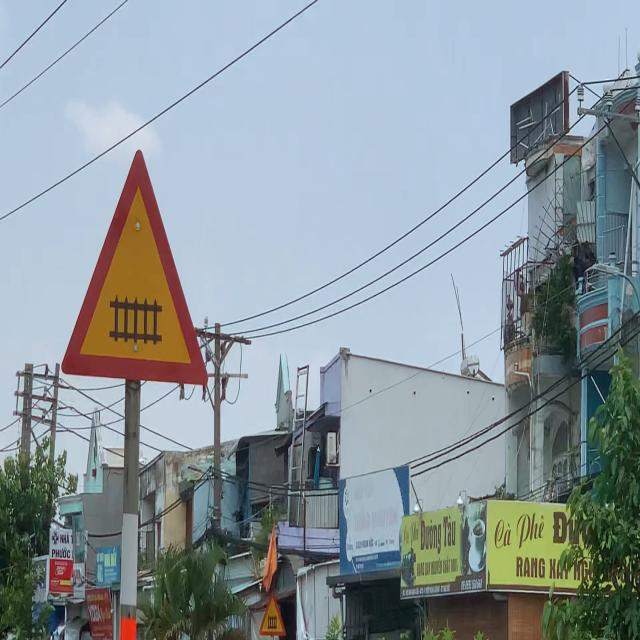Nguy hiem: (61, 148, 209, 387), (259, 591, 286, 636)
